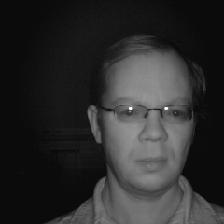normal: (84, 37, 214, 196)
